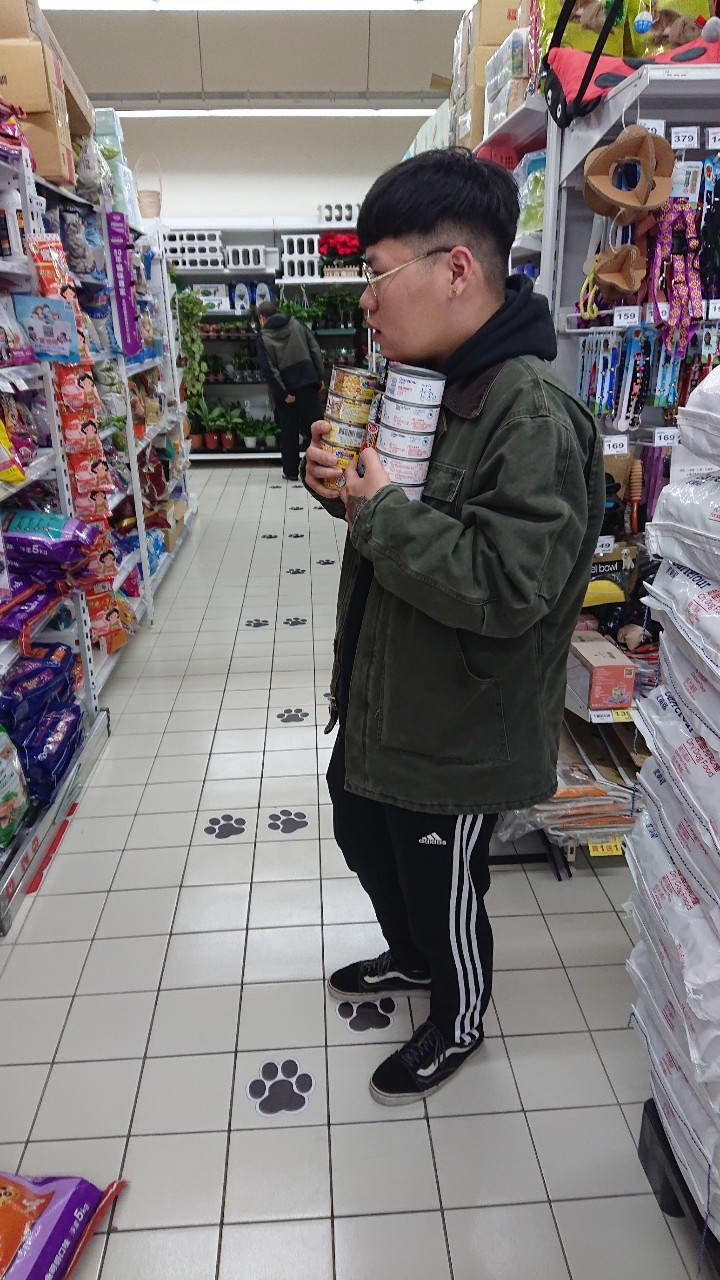people: (324, 153, 577, 1114)
